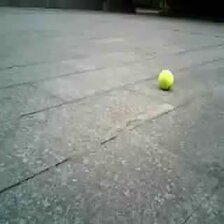tennis: (159, 68, 173, 87)
